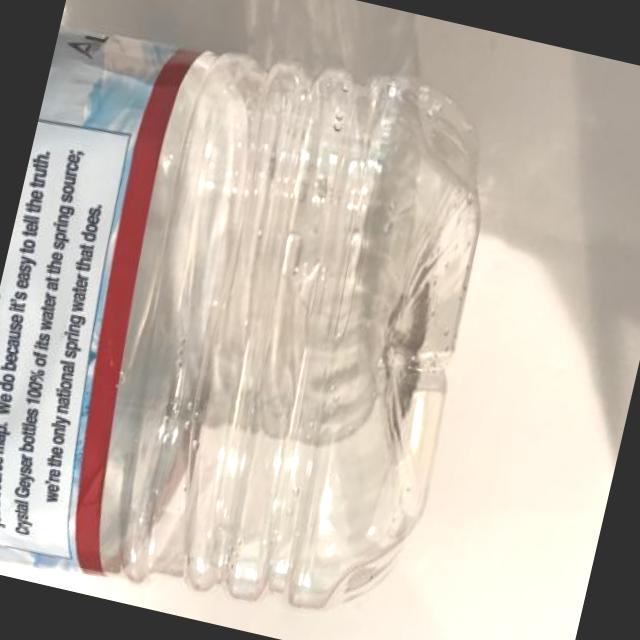Recycle: (0, 1, 516, 640)
